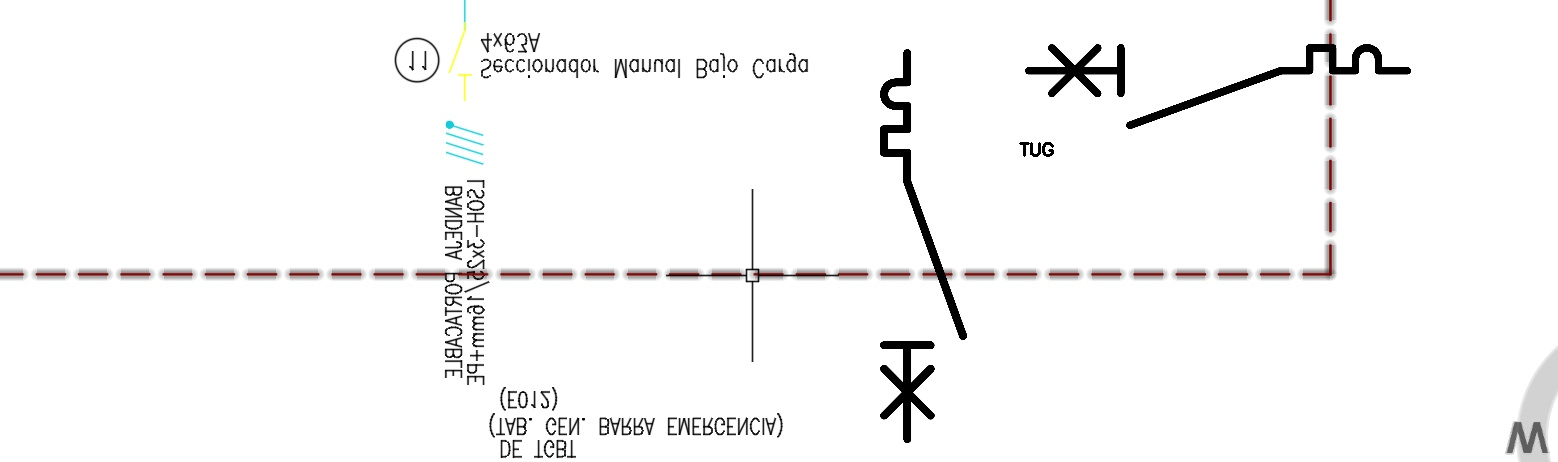interruptor_termomagnetico: (874, 43, 973, 449), (1019, 38, 1417, 135)
